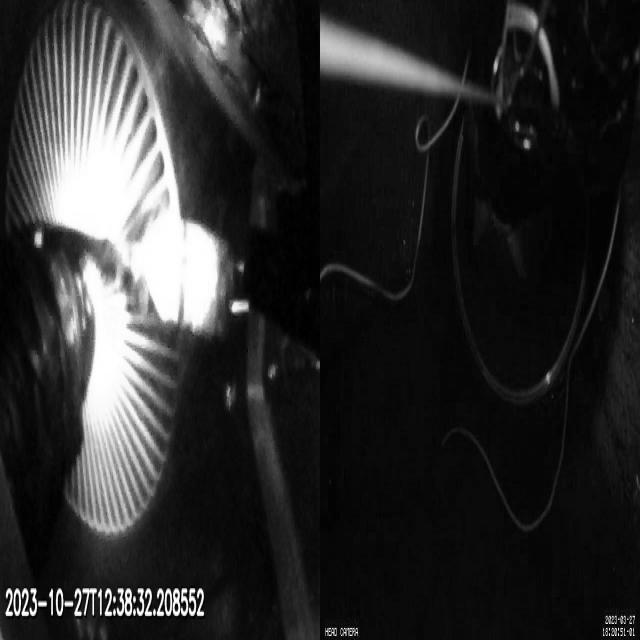head: (144, 211, 230, 342)
